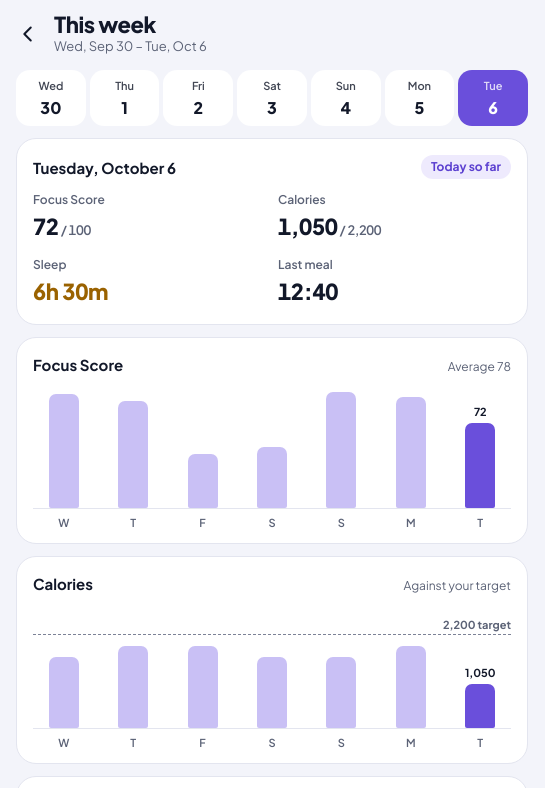
Test: History › switches the readout to the chosen day
The image size is (545, 788).
Click the button "Fri 2": click(198, 98) [163,70,233,126]
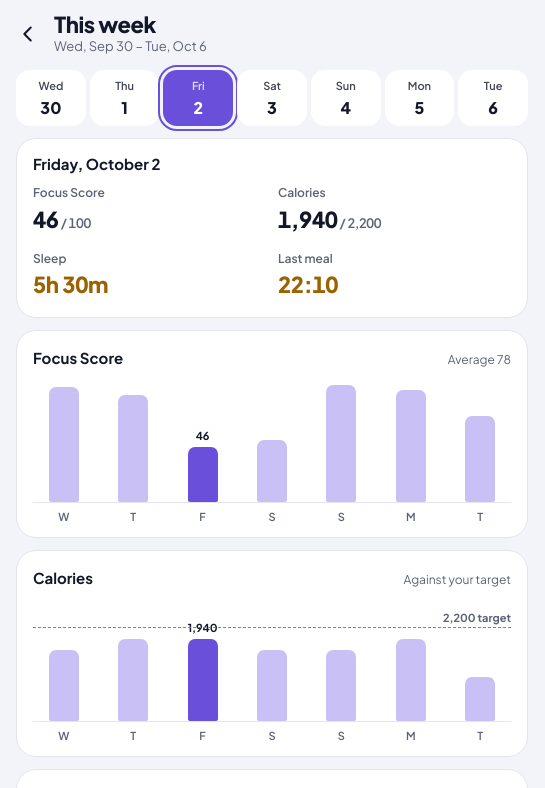
Result: the text "5h 30m" is shown at [33,270,108,298]
